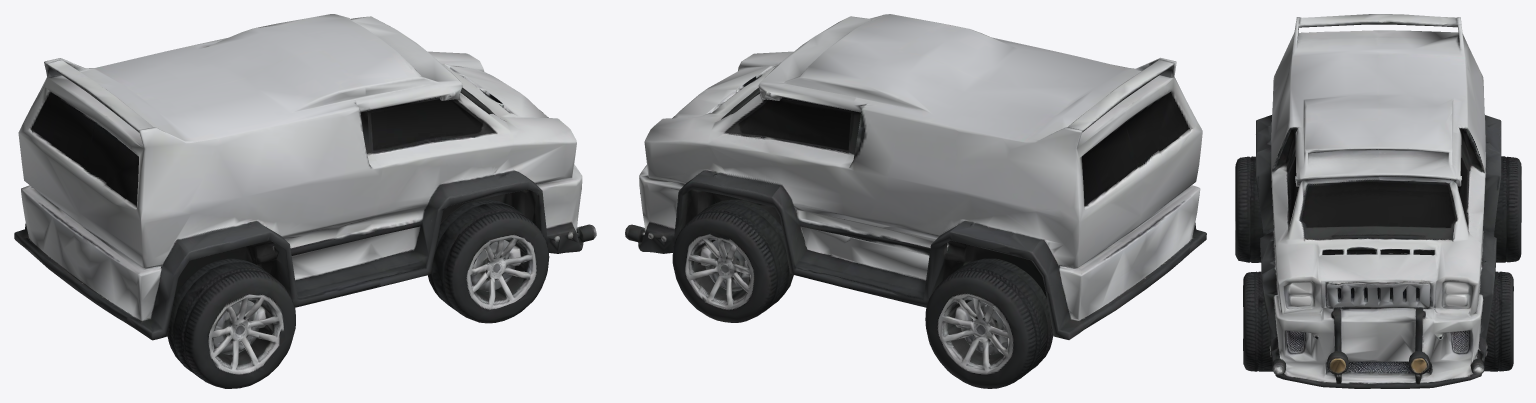
File: car6.glb
3 views of the same model, side by side, from view 1: azimuth 30°, elevation 25°; view 2: azimuth 150°, elevation 25°; view 3: azimuth 270°, elevation 25° (orthographic). The views are drawn at different scales.
Parts seen in each view (by area): view 1: tripo_node_2dd92bb6-28ea-4e05-ba34-f4eba4de0313; view 2: tripo_node_2dd92bb6-28ea-4e05-ba34-f4eba4de0313; view 3: tripo_node_2dd92bb6-28ea-4e05-ba34-f4eba4de0313.
Part boxes in pixels (x1=…): tripo_node_2dd92bb6-28ea-4e05-ba34-f4eba4de0313: x1=14, y1=14, x2=596, y2=388; tripo_node_2dd92bb6-28ea-4e05-ba34-f4eba4de0313: x1=625, y1=14, x2=1206, y2=388; tripo_node_2dd92bb6-28ea-4e05-ba34-f4eba4de0313: x1=1235, y1=14, x2=1521, y2=388.
Bounding box in the file's own units: 0.9997 × 0.5075 × 0.6096.
1 material, 1 textured.
